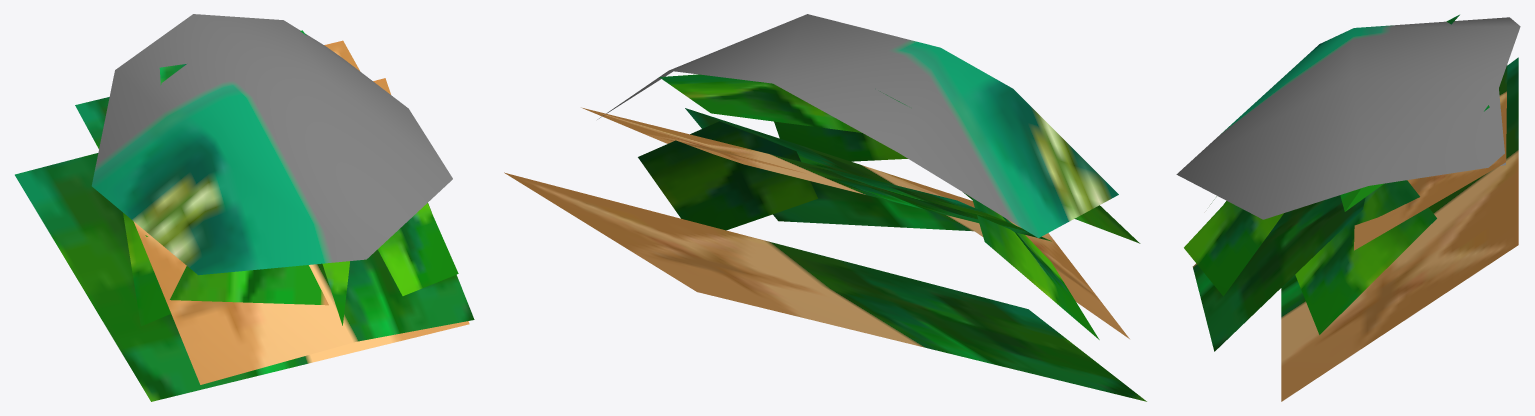
File: fg_bushE_2_s.dae
3 views of the same model, side by side, from view 1: azimuth 30°, elevation 25°; view 2: azimuth 150°, elevation 25°; view 3: azimuth 270°, elevation 25° (orthographic). The views are drawn at different scales.
Visible parts, largest first — view 1: fg_bushE_2_s; view 2: fg_bushE_2_s; view 3: fg_bushE_2_s.
Boxes of the visible parts, x1=… form: fg_bushE_2_s: x1=15, y1=14, x2=474, y2=401; fg_bushE_2_s: x1=504, y1=14, x2=1146, y2=401; fg_bushE_2_s: x1=1176, y1=14, x2=1520, y2=401.
Size of the model in its own units: 50.84 by 35.23 by 38.03.
1 material, 1 textured.
